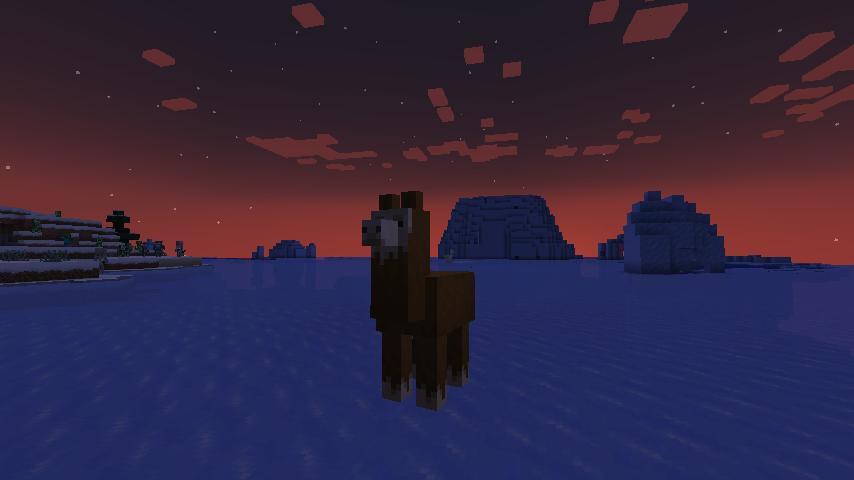llama: (358, 184, 482, 414)
